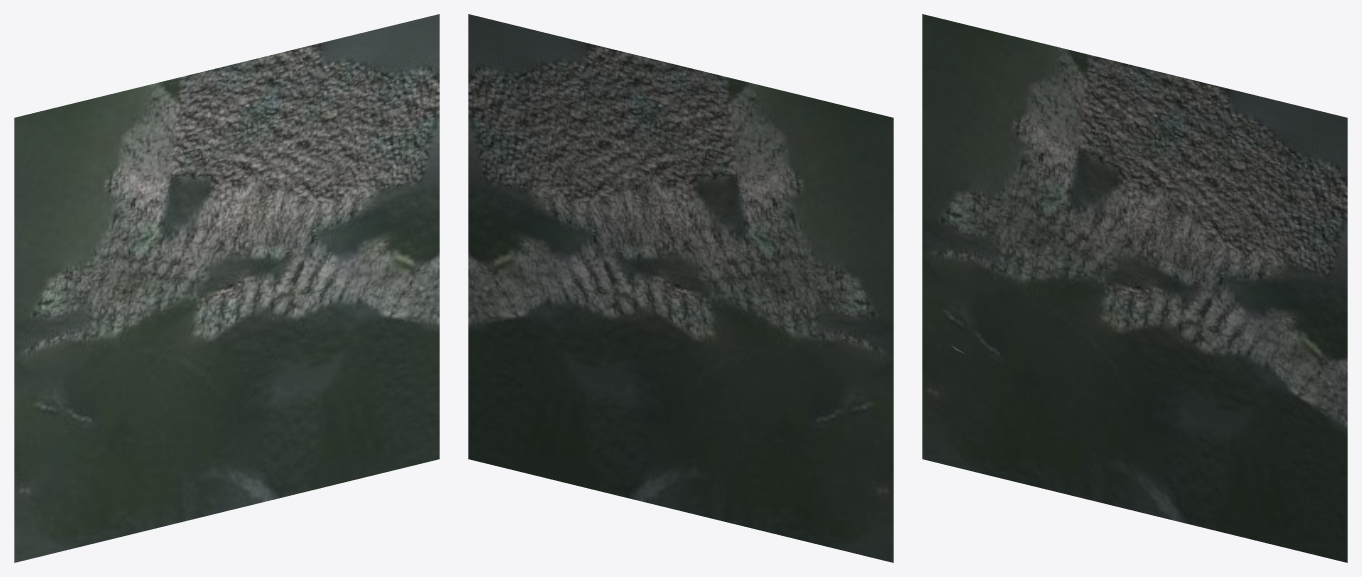
File: Tile_+038_+018_L17_0002.glb
The picture shows the model from 3 angles, left to right: view 1: azimuth 30°, elevation 25°; view 2: azimuth 150°, elevation 25°; view 3: azimuth 330°, elevation 25°; orthographic projection.
Bounding box in the file's own units: 126 × 126 × 5.23.
Materials: 1 (1 with a texture image).
